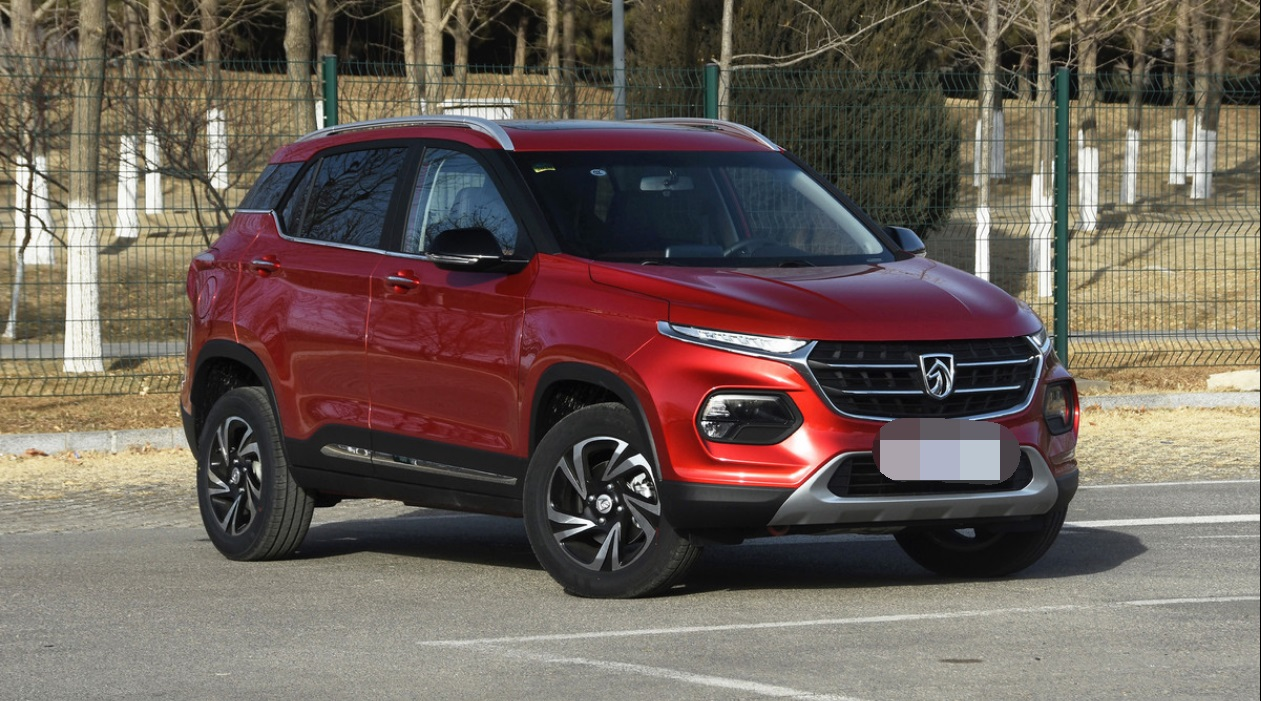SUV: (177, 114, 1091, 603)
